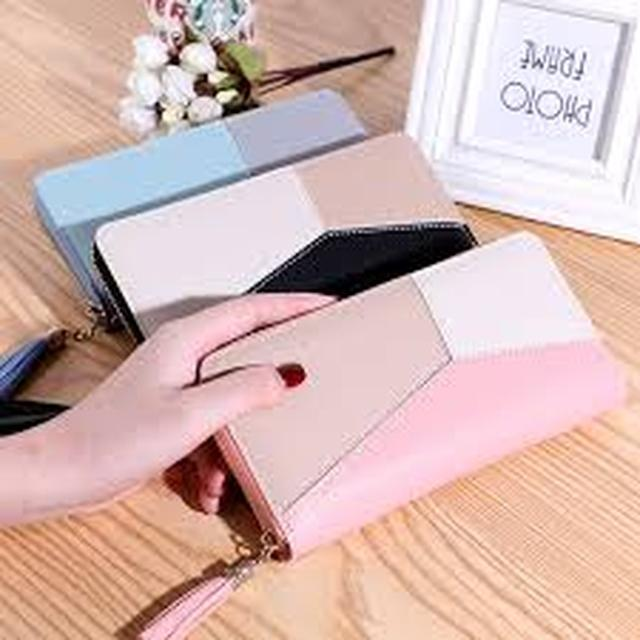wallet: (229, 279, 627, 583), (116, 144, 444, 374), (31, 71, 392, 279)
